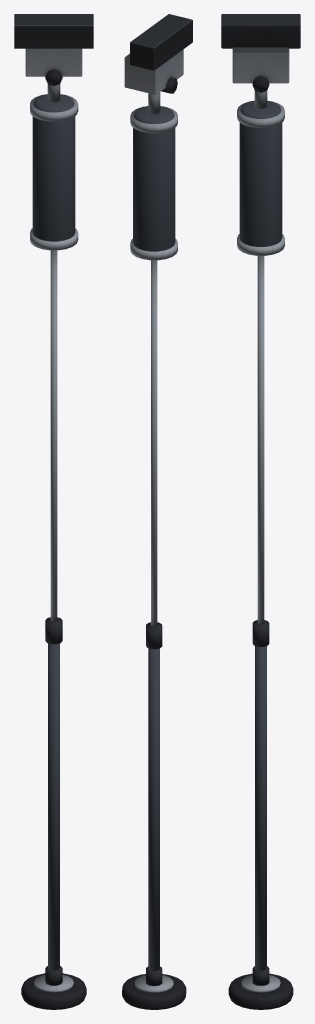
Rendered from platter.glb.
The picture shows the model from 3 angles, left to right: view 1: azimuth 90°, elevation 25°; view 2: azimuth 150°, elevation 25°; view 3: azimuth 270°, elevation 25°; orthographic projection.
Parts seen in each view (by area): view 1: platter, platter_paint; view 2: platter, platter_paint; view 3: platter, platter_paint.
Boxes of the visible parts, x1,y1,x2,y2 form: platter: (14, 14, 93, 1009); platter_paint: (32, 94, 75, 970); platter: (122, 14, 192, 1009); platter_paint: (133, 106, 175, 971); platter: (221, 14, 300, 1009); platter_paint: (239, 101, 282, 970).
Size of the model in its own units: 0.23 by 3.81 by 0.28.
2 materials, 1 textured.
